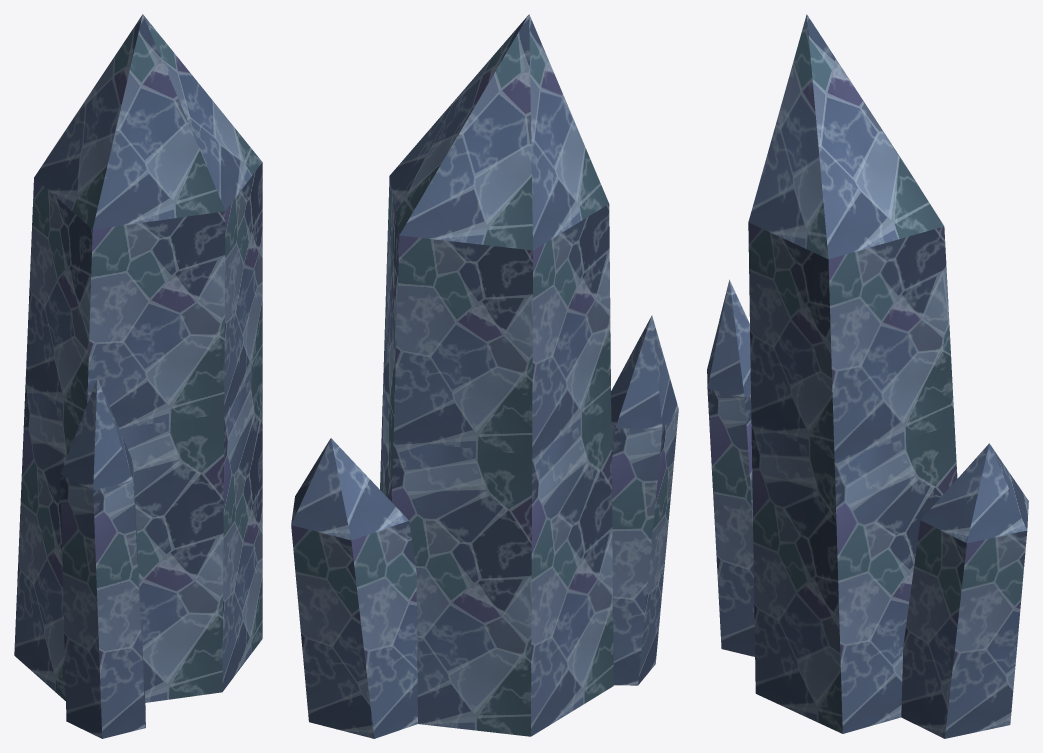
File: Oracle_Crystal_Slab_3_LOD2.gltf
3 views of the same model, side by side, from view 1: azimuth 30°, elevation 25°; view 2: azimuth 150°, elevation 25°; view 3: azimuth 270°, elevation 25° (orthographic). The views are drawn at different scales.
Parts seen in each view (by area): view 1: Oracle_Crystal_Slab_3_LOD2; view 2: Oracle_Crystal_Slab_3_LOD2; view 3: Oracle_Crystal_Slab_3_LOD2.
Part boxes in pixels (x1,y1,x2,y2): Oracle_Crystal_Slab_3_LOD2: (14, 14, 262, 738); Oracle_Crystal_Slab_3_LOD2: (291, 14, 678, 738); Oracle_Crystal_Slab_3_LOD2: (707, 14, 1028, 738).
Size of the model in its own units: 7.29 by 17.68 by 7.88.
1 material, 1 textured.
